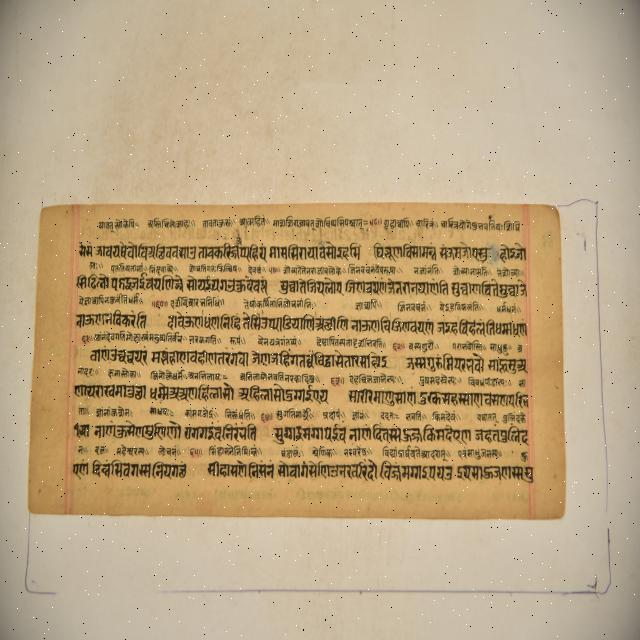text_paragraph: (28, 209, 562, 516)
